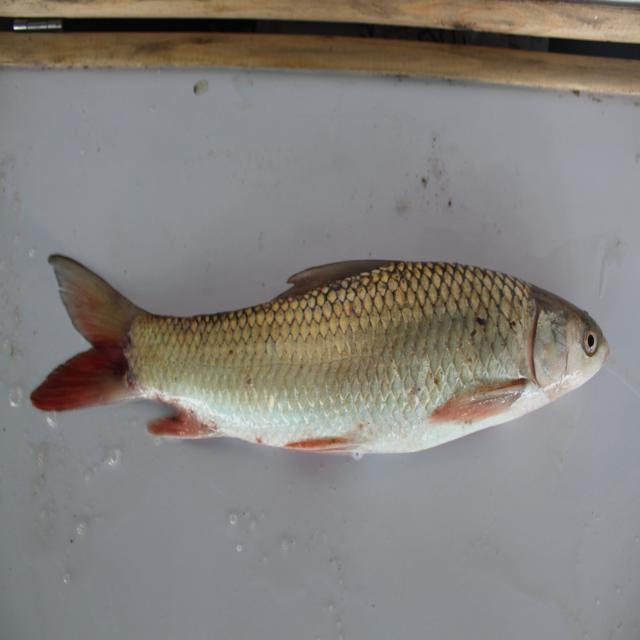Mori: (27, 224, 625, 474)
